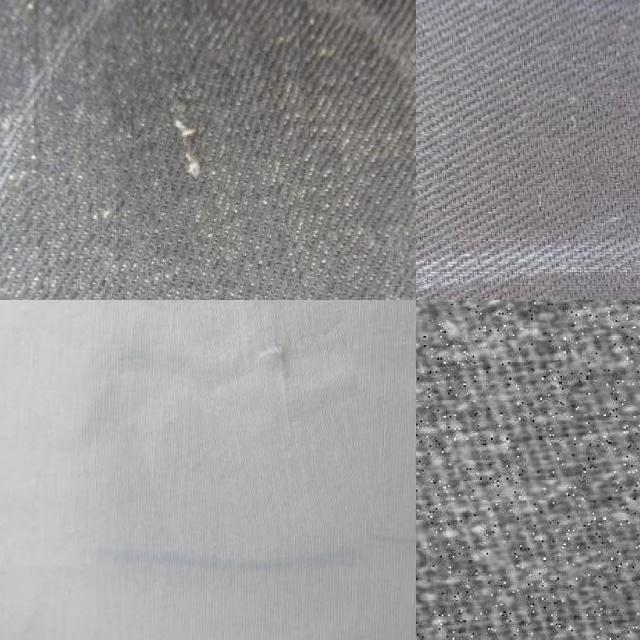stains: (119, 42, 353, 300), (173, 300, 369, 540)
